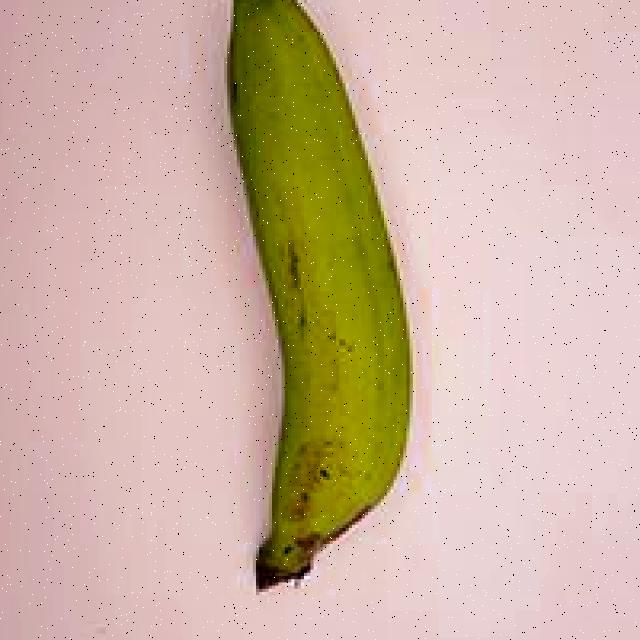Raw: (182, 0, 436, 611)
